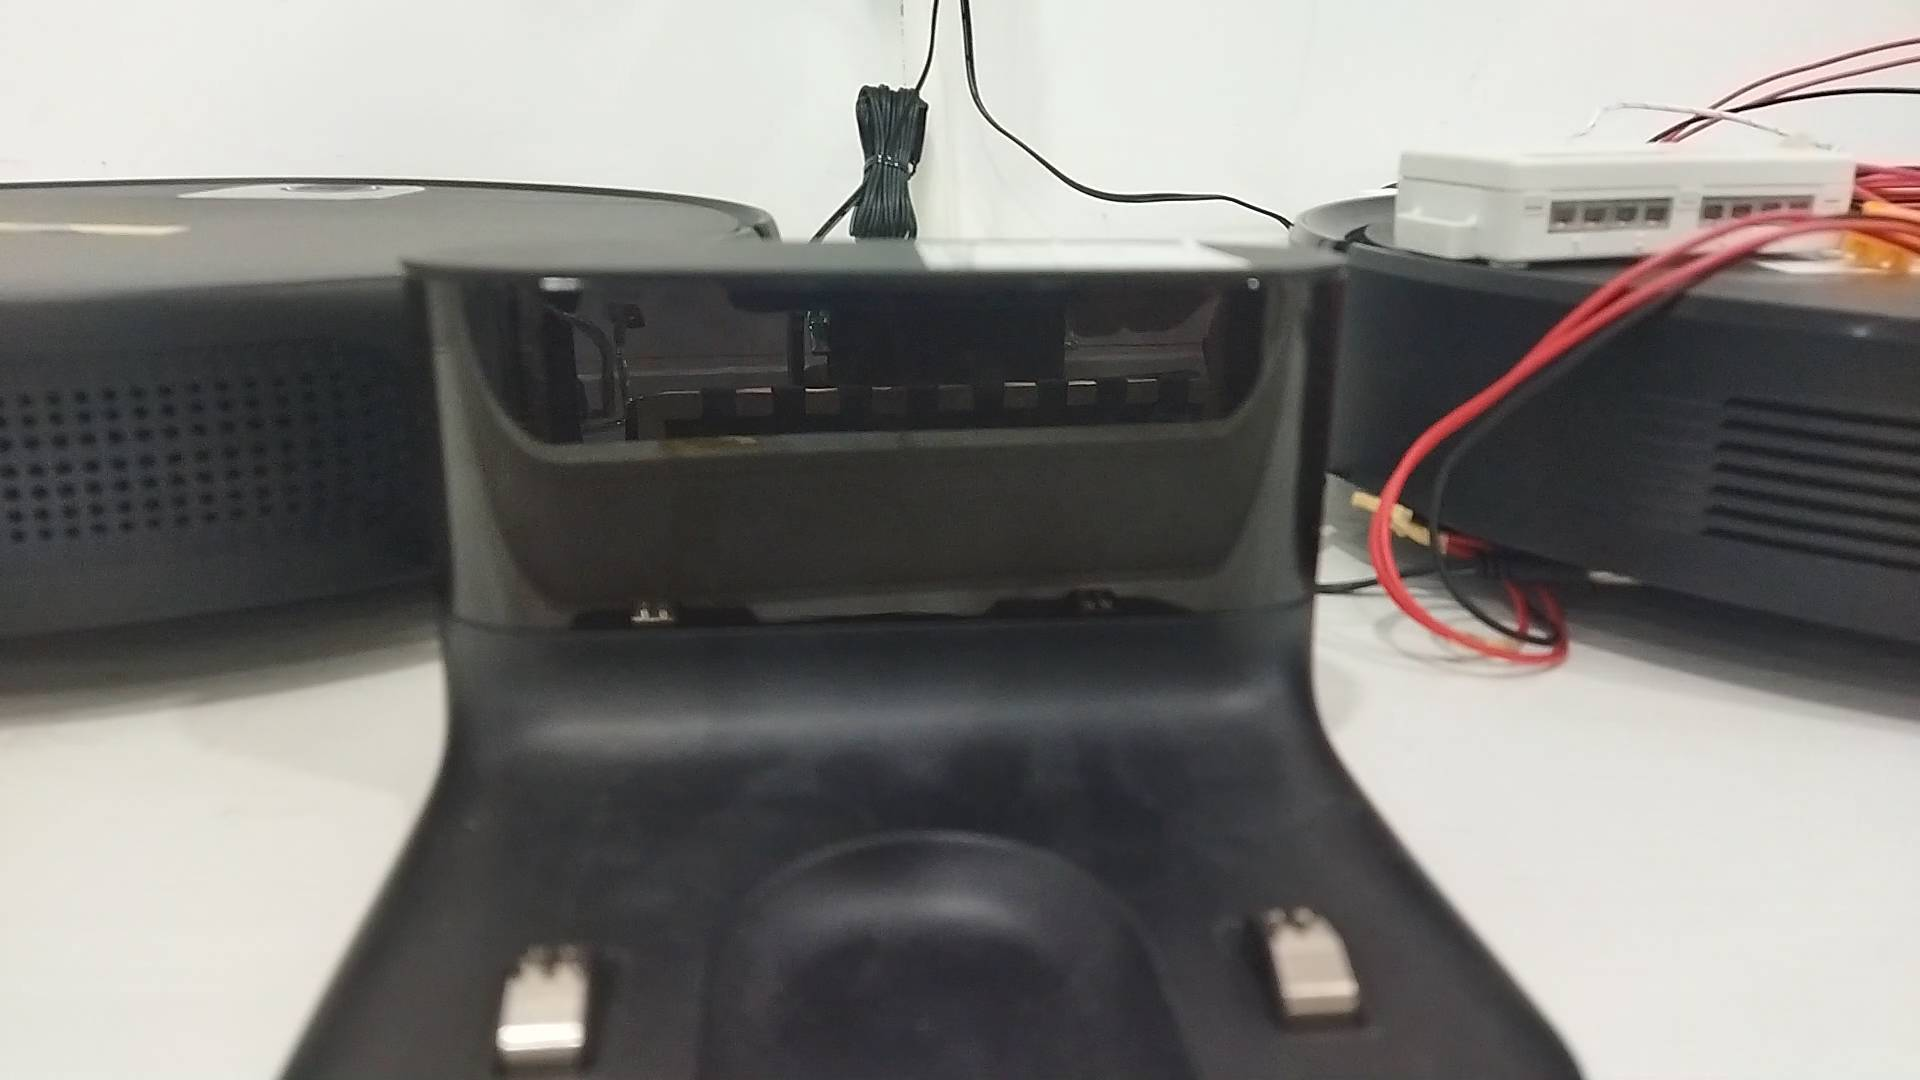recharge seat: (272, 233, 1597, 1080)
